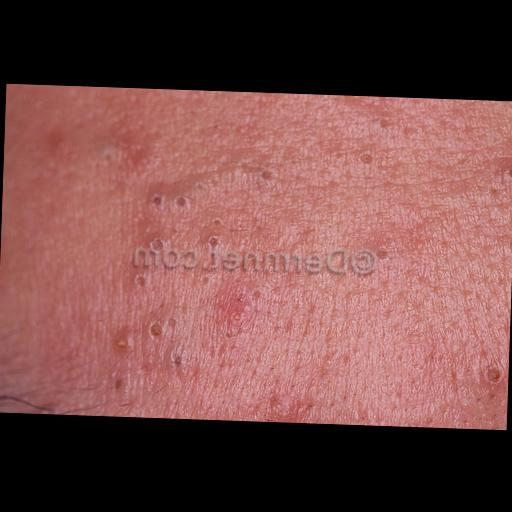Skin_Lesion: (146, 178, 192, 224), (147, 304, 188, 342), (474, 358, 508, 391), (220, 305, 248, 338), (370, 234, 396, 266), (204, 215, 226, 250), (106, 330, 132, 356), (106, 372, 130, 398), (163, 352, 191, 374), (265, 388, 287, 416), (96, 139, 118, 165), (350, 146, 373, 168), (146, 236, 168, 254), (375, 110, 393, 132), (126, 274, 148, 290), (260, 164, 276, 184), (248, 286, 263, 300), (246, 248, 258, 264), (503, 161, 512, 180)
